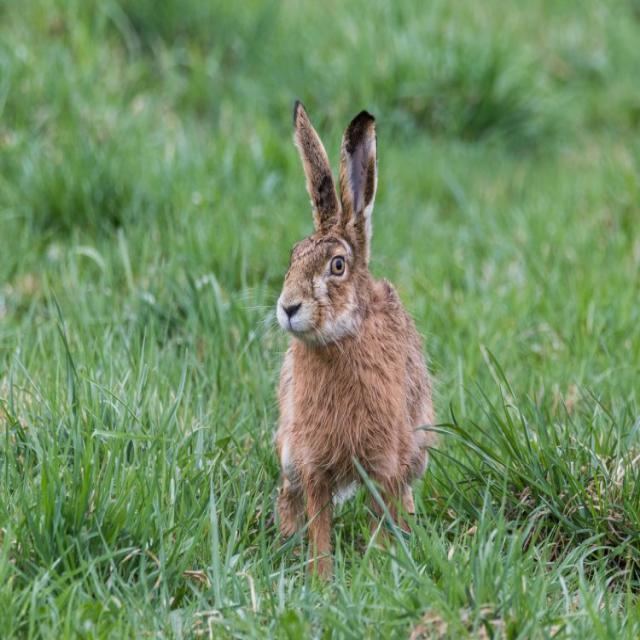Hare: (265, 96, 445, 516)
